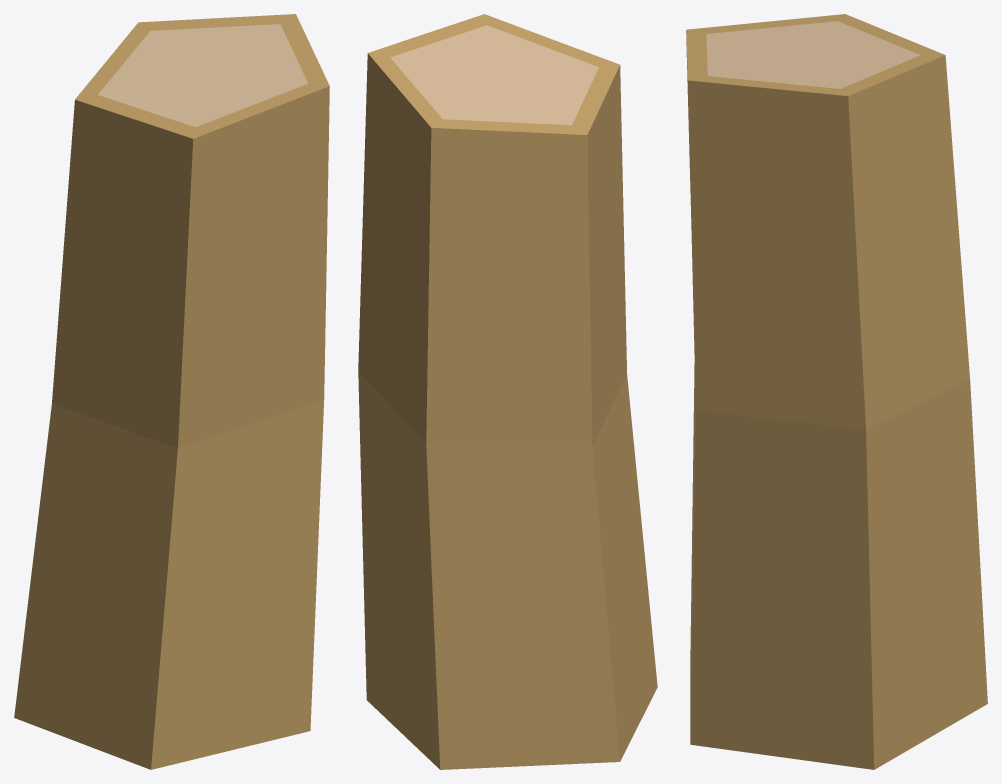
Rendered from Simple_Stump_01.fbx.
3 renders of one model, left to right at view 1: azimuth 30°, elevation 25°; view 2: azimuth 150°, elevation 25°; view 3: azimuth 270°, elevation 25°, orthographic. The views are drawn at different scales.
Parts seen in each view (by area): view 1: Simple_Stump_01; view 2: Simple_Stump_01; view 3: Simple_Stump_01.
Boxes of the visible parts, box(x1,y1,x2,y2) form: Simple_Stump_01: box(14, 14, 329, 769); Simple_Stump_01: box(358, 14, 657, 769); Simple_Stump_01: box(686, 14, 987, 769).
Bounding box in the file's own units: 59.82 × 137 × 55.05.
